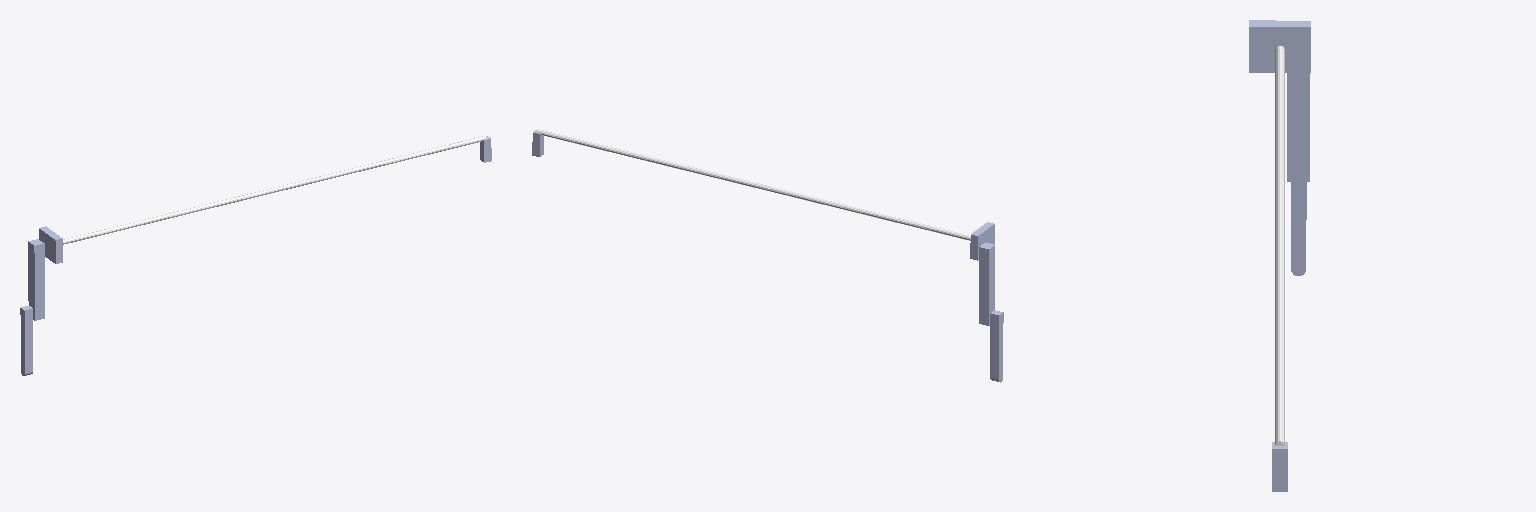
robot.urdf — monopod-old-fixed_hip:
<?xml version="1.0" encoding="utf-8"?>
<!-- This URDF was automatically created by SolidWorks to URDF Exporter! Originally created by [author] ([email redacted])
     Commit Version: 1.6.0-1-g15f4949  Build Version: 1.6.7594.29634
     For more information, please see http://wiki.ros.org/sw_urdf_exporter -->
<robot
  name="monopod-old-fixed_hip">
  <link name="world" />
  <link
    name="base_link">
    <inertial>
      <origin
        xyz="0 0.0375 0"
        rpy="0 0 0" />
      <mass
        value="0.046875" />
      <inertia
        ixx="2.44140625E-05"
        ixy="0"
        ixz="1.46936793852786E-38"
        iyy="4.8828125E-06"
        iyz="0"
        izz="2.44140625E-05" />
    </inertial>
    <visual>
      <origin
        xyz="0 0 0"
        rpy="0 0 0" />
      <geometry>
        <mesh
          filename="package://monopod-old-fixed_hip/meshes/base_link.STL" />
      </geometry>
      <material
        name="">
        <color
          rgba="0.792156862745098 0.819607843137255 0.933333333333333 1" />
      </material>
    </visual>
    <collision>
      <origin
        xyz="0 0 0"
        rpy="0 0 0" />
      <geometry>
        <mesh
          filename="package://monopod-old-fixed_hip/meshes/base_link.STL" />
      </geometry>
    </collision>
  </link>

  <joint name="world_to_base_link" type="fixed">
      <origin
        xyz="0 0 0.075"
        rpy="0 3.14 0" />
     <parent link="world"/>
     <child link="base_link"/>
  </joint>
  <link name="universal_link">
    <inertial>
      <mass value="0.025" />
      <inertia ixx="5.8083e-4" ixy="0" ixz="0" iyy="3.0833e-5" iyz="0" izz="5.9083e-4" />
    </inertial>
  </link>
  <joint
    name="planarizer_yaw_joint"
    type="continuous">
    <origin
      xyz="0 0 0"
      rpy="0 0 0" />
    <parent
      link="base_link" />
    <child
      link="universal_link" />
    <axis
      xyz="0 0 1" />
    <dynamics
      damping="0.1"
      friction="0.1" />
  </joint>
  <link
    name="boom_link">
    <inertial>
      <origin
        xyz="2.1901E-17 3.9031E-17 0.75"
        rpy="0 0 0" />
      <mass
        value="0.12458" />
      <inertia
        ixx="0.023361"
        ixy="0"
        ixz="4.0264E-18"
        iyy="0.023361"
        iyz="-2.189E-18"
        izz="3.5039E-06" />
    </inertial>
    <visual>
      <origin
        xyz="0 0 0"
        rpy="0 0 0" />
      <geometry>
        <mesh
          filename="package://monopod-old-fixed_hip/meshes/boom_Link.STL" />
      </geometry>
      <material
        name="">
        <color
          rgba="1 1 1 1" />
      </material>
    </visual>
    <collision>
      <origin
        xyz="0 0 0"
        rpy="0 0 0" />
      <geometry>
        <mesh
          filename="package://monopod-old-fixed_hip/meshes/boom_Link.STL" />
      </geometry>
    </collision>
  </link>
  <joint
    name="planarizer_pitch_joint"
    type="continuous">
    <origin
      xyz="0 0 0"
      rpy="0 1.57 0"/>
    <parent
      link="universal_link" />
    <child
      link="boom_link" />
    <axis
      xyz="0 1 0" />
    <dynamics
      damping="0.1"
      friction="0.1" />
  </joint>
  <link
    name="hip_link">
    <inertial>
      <origin
        xyz="6.48786580015326E-16 -6.26994116348367E-16 -0.0282190333475854"
        rpy="0 0 0" />
      <mass
        value="0.2" />
      <inertia
        ixx="0.000117083333333333"
        ixy="3.3881317890172E-20"
        ixz="-1.31771856813167E-18"
        iyy="0.000177083333333333"
        iyz="-5.8971856538498E-19"
        izz="0.000273333333333333" />
    </inertial>
    <visual>
      <origin
        xyz="0 0 0"
        rpy="0 0 0" />
      <geometry>
        <mesh
          filename="package://monopod-old-fixed_hip/meshes/hip_Link.STL" />
      </geometry>
      <material
        name="">
        <color
          rgba="0.792156862745098 0.819607843137255 0.933333333333333 1" />
      </material>
    </visual>
    <collision>
      <origin
        xyz="0 0 0"
        rpy="0 0 0" />
      <geometry>
        <mesh
          filename="package://monopod-old-fixed_hip/meshes/hip_Link.STL" />
      </geometry>
    </collision>
  </link>
  <joint
    name="boom_connector_joint_joint"
    type="fixed">
    <origin
      xyz="0 0 1.4843"
      rpy="3.14159 0 -1.57" />
    <parent
      link="boom_link" />
    <child
      link="hip_link" />
    <axis
      xyz="0 0 1" />
    <dynamics
      damping="0.1"
      friction="0.1" />
  </joint>
  <link
    name="upper_leg_link">
    <inertial>
      <origin
        xyz="-0.054108 5.5511E-17 0.1"
        rpy="0 0 0" />
      <mass
        value="0.23078" />
      <inertia
        ixx="0.000861624"
        ixy="1.2E-08"
        ixz="-6.787542E-05"
        iyy="0.00086717057"
        iyz="-1.55E-07"
        izz="4.830605E-05" />
    </inertial>
    <visual>
      <origin
        xyz="0 0 0"
        rpy="0 0 0" />
      <geometry>
        <mesh
          filename="package://monopod-old-fixed_hip/meshes/upper_leg_Link.STL" />
      </geometry>
      <material
        name="">
        <color
          rgba="0.79216 0.81961 0.93333 1" />
      </material>
    </visual>
    <collision>
      <origin
        xyz="0 0 0"
        rpy="0 0 0" />
      <geometry>
        <mesh
          filename="package://monopod-old-fixed_hip/meshes/upper_leg_Link.STL" />
      </geometry>
    </collision>
  </link>
  <joint
    name="hip_joint"
    type="revolute">
    <origin
      xyz="-0.03 0.02 -0.115"
      rpy="-1.5708 1.5708 0" />
    <parent
      link="hip_link" />
    <child
      link="upper_leg_link" />
    <axis
      xyz="1 0 0" />
    <limit
      lower="-6.28"
      upper="6.28"
      effort="50"
      velocity="3.1416" />
    <dynamics
      damping="0.01"
      friction="0.001" />
  </joint>
  <link
    name="lower_leg_link">
    <inertial>
      <origin
        xyz="-0.050227 2.2204E-16 0.094926"
        rpy="0 0 0" />
      <mass
        value="0.054" />
      <inertia
        ixx="0.00024273711"
        ixy="1.3E-10"
        ixz="4.3246E-06"
        iyy="0.00024212654"
        iyz="9.87E-09"
        izz="3.27039E-06" />
    </inertial>
    <visual>
      <origin
        xyz="0 0 0"
        rpy="0 0 0" />
      <geometry>
        <mesh
          filename="package://monopod-old-fixed_hip/meshes/lower_leg_Link.STL" />
      </geometry>
      <material
        name="">
        <color
          rgba="0.79216 0.81961 0.93333 1" />
      </material>
    </visual>
    <collision>
      <origin
        xyz="0 0 0"
        rpy="0 0 0" />
      <geometry>
        <mesh
          filename="package://monopod-old-fixed_hip/meshes/lower_leg_Link.STL" />
      </geometry>
    </collision>
  </link>
  <joint
    name="knee_joint"
    type="revolute">
    <origin
      xyz="0.03 0 0.2"
      rpy="0 0 0" />
    <parent
      link="upper_leg_link" />
    <child
      link="lower_leg_link" />
    <axis
      xyz="1 0 0" />
    <limit
      lower="-6.28"
      upper="6.28"
      effort="50"
      velocity="3.1416" />
    <dynamics
      damping="0.01"
      friction="0.001" />
  </joint>
</robot>

--- Facts derived from the render (not from the file) ---
Views: 3 orthographic renders of the robot side by side, from view 1: azimuth 30°, elevation 25°; view 2: azimuth 150°, elevation 25°; view 3: azimuth 270°, elevation 25°.
Robot: monopod-old-fixed_hip — 7 links, 6 joints (2 revolute, 2 continuous, 2 fixed); root link world; default pose: all joints at 0.
Links seen in each view (by area): view 1: boom_link, upper_leg_link, lower_leg_link, hip_link; view 2: boom_link, upper_leg_link, lower_leg_link, hip_link; view 3: boom_link, hip_link, upper_leg_link, lower_leg_link, base_link.
Boxes of the visible links, x1,y1,x2,y2 form: boom_link: (63, 136, 486, 244); upper_leg_link: (28, 239, 44, 320); lower_leg_link: (20, 306, 32, 375); hip_link: (39, 226, 62, 263); boom_link: (537, 129, 970, 240); upper_leg_link: (979, 242, 994, 325); lower_leg_link: (990, 310, 1003, 382); hip_link: (970, 222, 994, 260); boom_link: (1275, 46, 1284, 445); hip_link: (1249, 20, 1310, 72); upper_leg_link: (1287, 73, 1309, 181); lower_leg_link: (1291, 182, 1306, 275); base_link: (1272, 442, 1287, 491).
Bounding box of the posed robot: 1.61 × 0.1001 × 0.4678 m (x, y, z).
Meshes: 5 distinct files referenced, 5 mesh visuals loaded (5 binary STL).